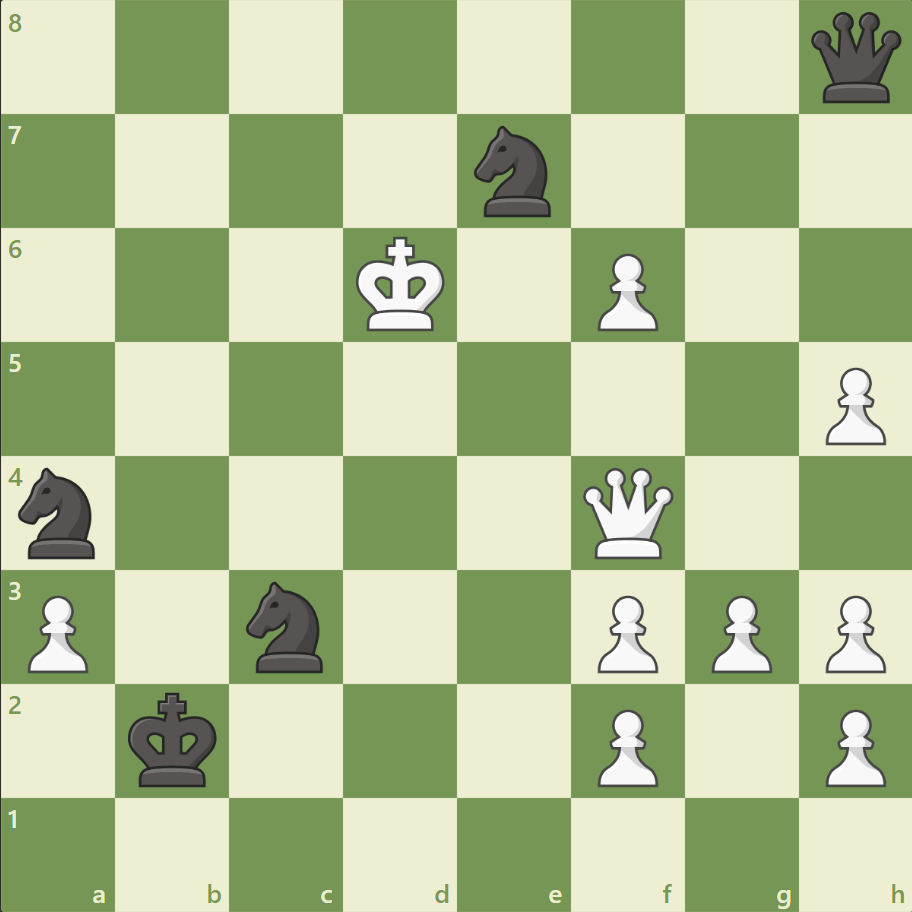K: (351, 231, 451, 339)
P: (20, 586, 95, 677), (701, 586, 776, 677), (588, 246, 662, 337), (815, 359, 889, 450), (588, 586, 662, 677), (815, 586, 889, 677), (588, 700, 662, 791), (815, 700, 889, 791)
Q: (578, 463, 677, 562)
k: (124, 685, 224, 793)
n: (11, 461, 108, 564), (465, 121, 562, 223), (238, 575, 335, 677)
q: (805, 9, 904, 108)
